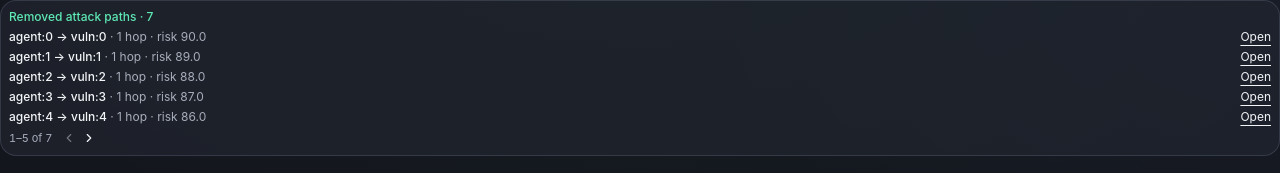
Scenario: GraphChangeExposures paging › pages every returned row in bounded, keyboard-reachable pages
Check: the number of list items is 5, box top-left (9, 29), bottom-right (1271, 45); top-left (9, 49), bottom-right (1271, 65); top-left (9, 69), bottom-right (1271, 85); top-left (9, 89), bottom-right (1271, 105); top-left (9, 109), bottom-right (1271, 125)
Check: the element "Removed attack paths" shows "1–5 of 7", box top-left (9, 131), bottom-right (52, 145)
Click the button named "next removed attack paths" at (90, 138), box top-left (80, 129), bottom-right (98, 147)
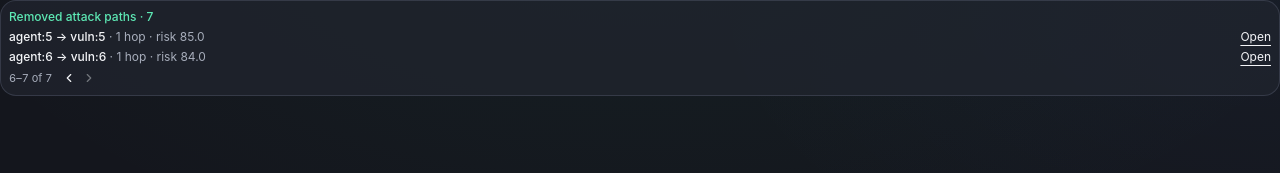
Check: the number of list items is 2, box top-left (9, 29), bottom-right (1271, 45); top-left (9, 49), bottom-right (1271, 65)
Check: the element "Removed attack paths" shows "6–7 of 7", box top-left (9, 71), bottom-right (52, 85)
Check: the element "Removed attack paths" shows "agent:6 → vuln:6", box top-left (9, 9), bottom-right (1271, 87)
Click the button named "previous removed attack paths" at (70, 78), box top-left (60, 69), bottom-right (78, 87)
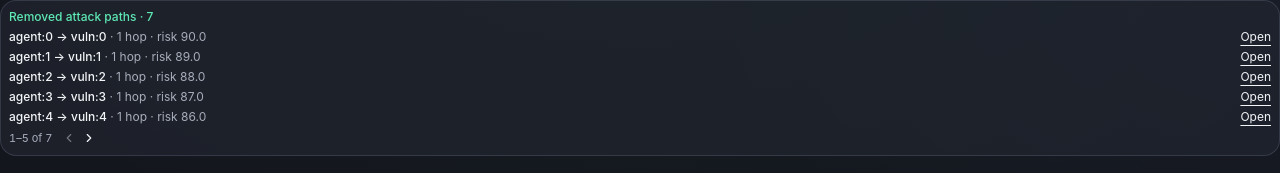
Check: the element "Removed attack paths" shows "agent:0 → vuln:0"
